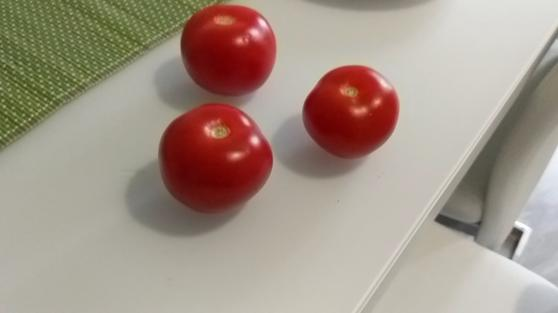tomato: (159, 101, 272, 210), (305, 58, 400, 162), (178, 7, 278, 94)
